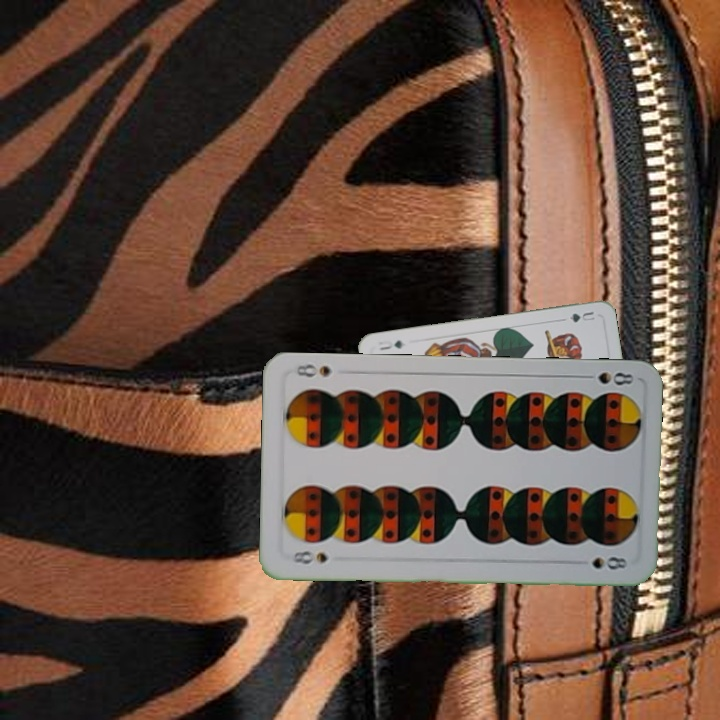GU: (559, 307, 597, 325)
S8: (577, 368, 636, 388), (288, 546, 331, 566)
